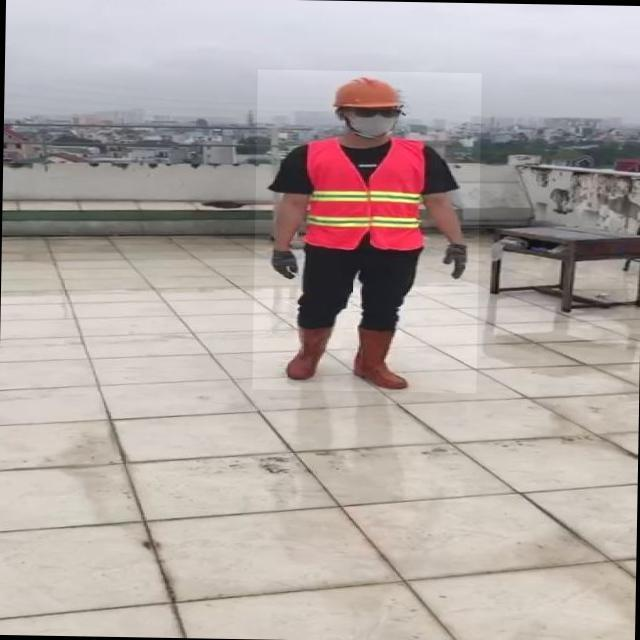Gloves: (267, 248, 300, 281), (440, 244, 468, 278)
Helmet: (326, 75, 405, 112)
Human: (252, 69, 482, 393)
Safety Boot: (353, 327, 412, 390), (285, 323, 336, 381)
Safety Vest: (301, 138, 427, 249)
